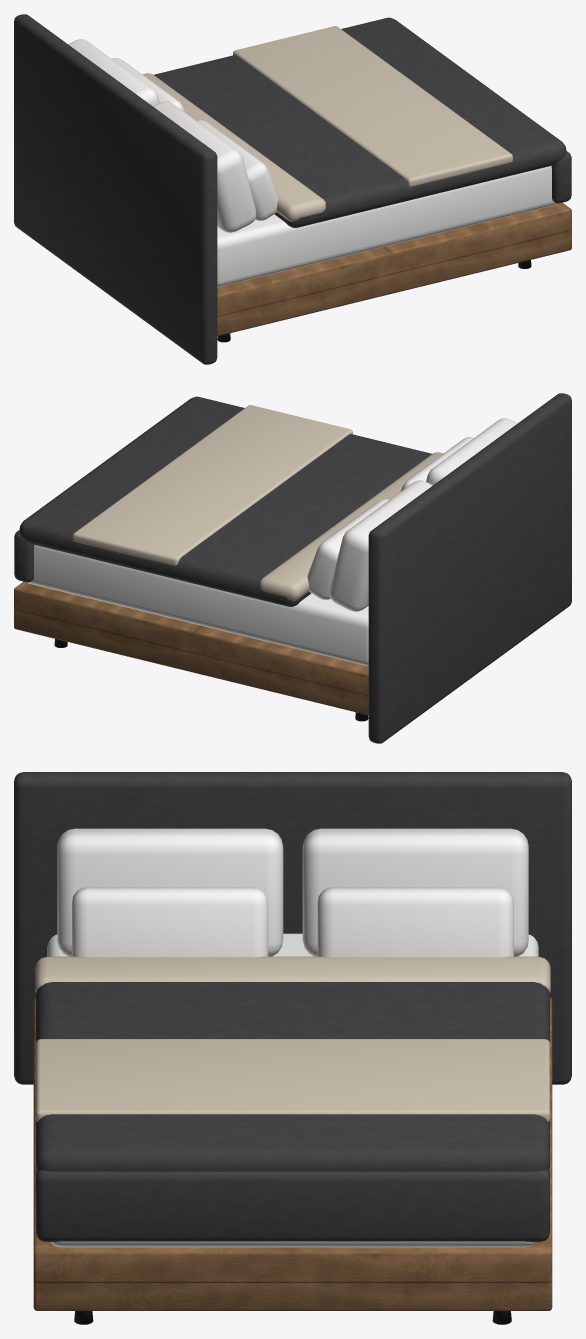
Rendered from bed2_bed.glb.
The picture shows the model from 3 angles, top to bottom: view 1: azimuth 30°, elevation 25°; view 2: azimuth 150°, elevation 25°; view 3: azimuth 270°, elevation 25°; orthographic projection. The views are drawn at different scales.
Parts seen in each view (by area): view 1: bed2_bed; view 2: bed2_bed; view 3: bed2_bed.
Part boxes in pixels (bbox=[...]): bed2_bed: bbox=[14, 14, 571, 364]; bed2_bed: bbox=[14, 393, 571, 743]; bed2_bed: bbox=[14, 772, 571, 1324].
Size of the model in its own units: 2.08 by 1.12 by 1.84.
6 materials, 3 textured.
